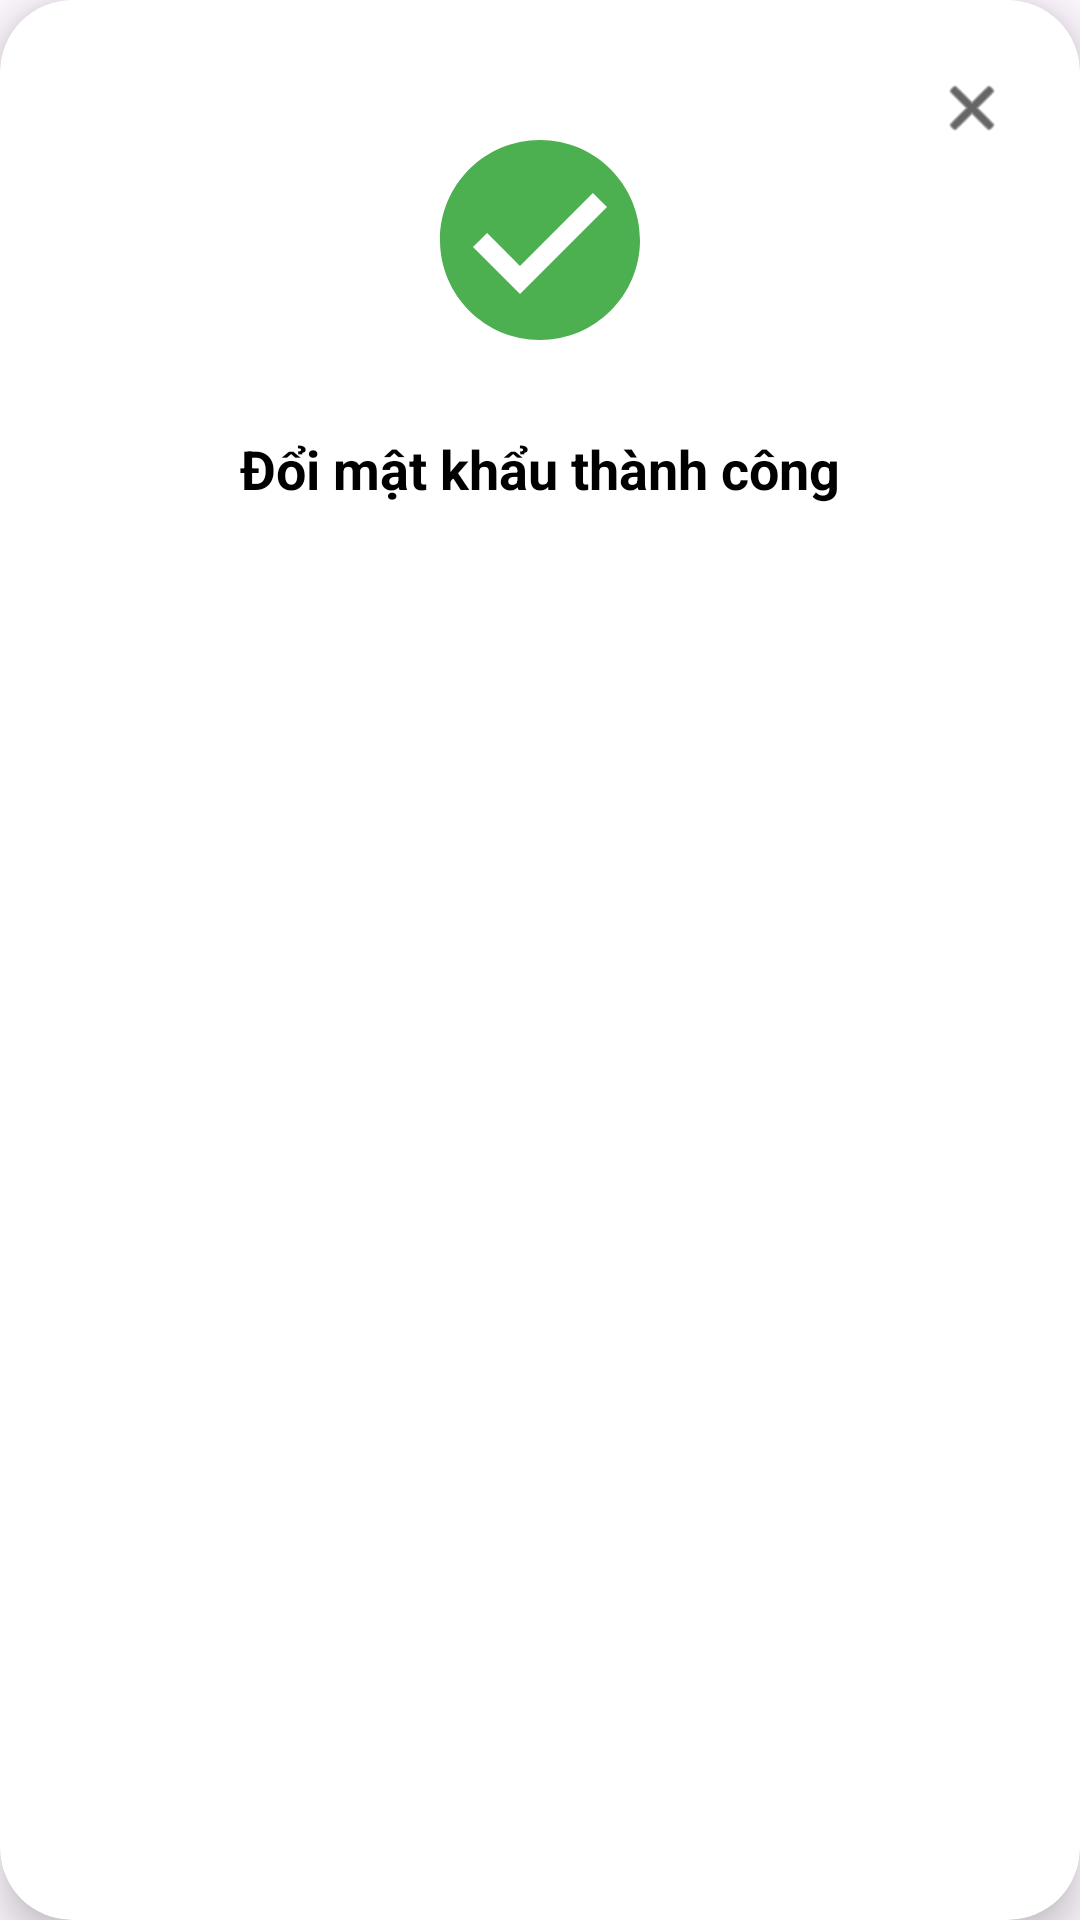

Icon click points for this 1080px×1920px phone screenshot, format [x,y]:
close clear cancel: [972,108]
success: [540,240]
